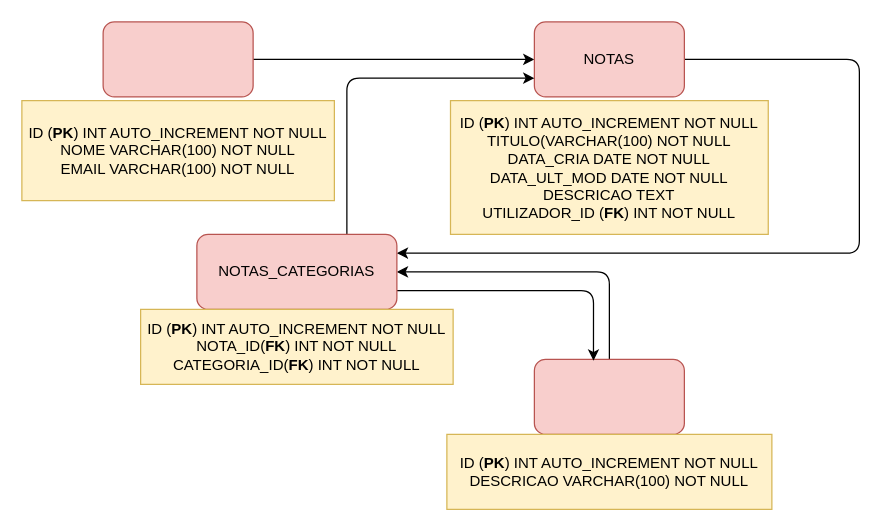
Image size: 891x531. Some labels were removed from this diagram. Each missing label, with the centre of its shape:
"CATEGORIAS" belongs at point 608,396.
"UTILIZADOR" belongs at point 177,59.
